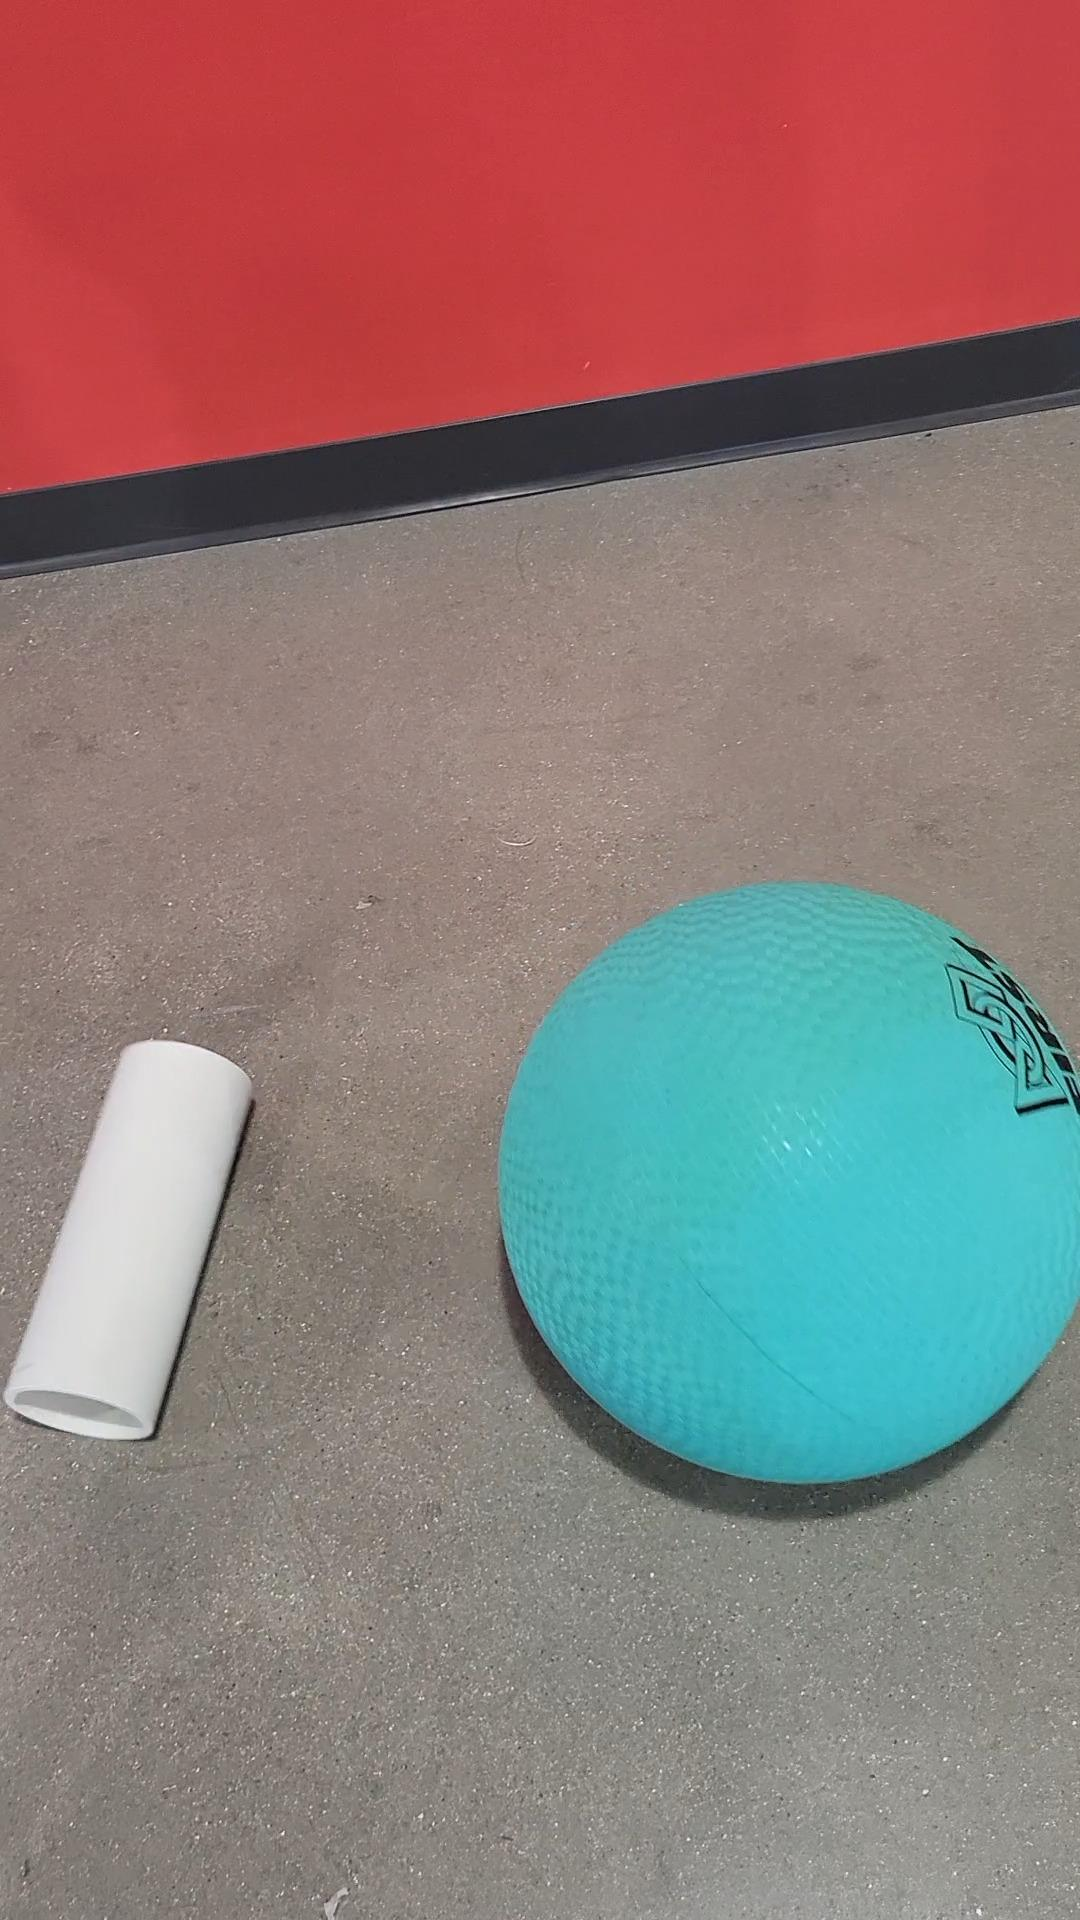algae: (492, 870, 1080, 1493)
coral: (3, 1035, 257, 1443)
